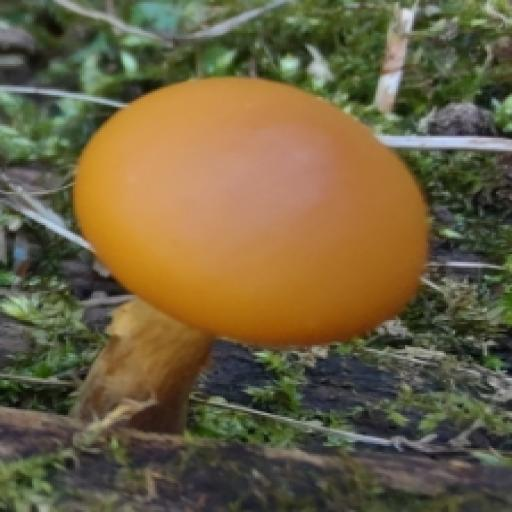mushroom: (68, 70, 437, 411)
